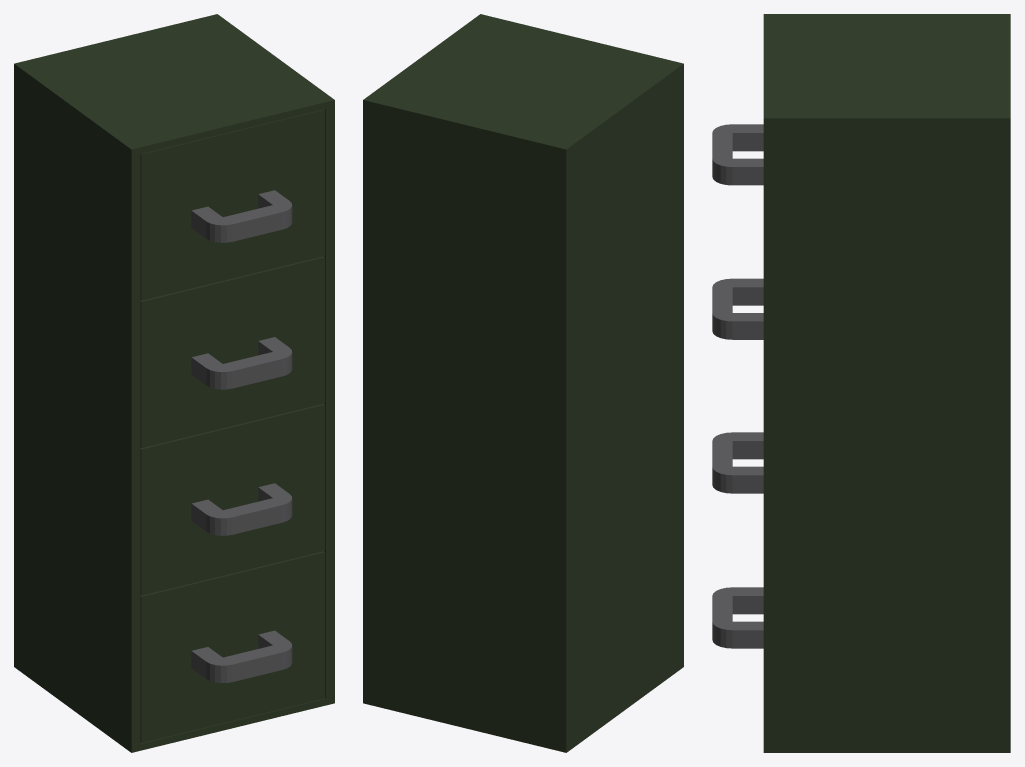
Rendered from big_drawer.glb.
3 renders of one model, left to right at view 1: azimuth 30°, elevation 25°; view 2: azimuth 150°, elevation 25°; view 3: azimuth 270°, elevation 25°, orthographic. The views are drawn at different scales.
Visible parts, largest first — view 1: Cube.019_Cube.032; view 2: Cube.019_Cube.032; view 3: Cube.019_Cube.032.
Part boxes in pixels (x1,y1,x2,y2): Cube.019_Cube.032: (14, 14, 334, 752); Cube.019_Cube.032: (363, 14, 683, 752); Cube.019_Cube.032: (712, 14, 1010, 752).
Bounding box in the file's own units: 2 × 5.67 × 2.42.
